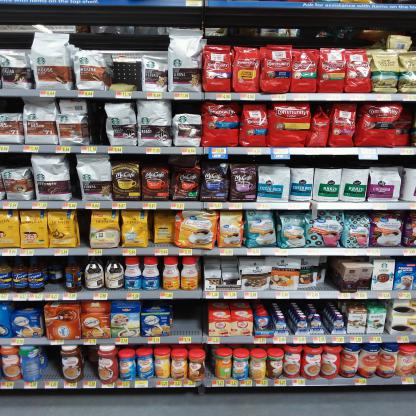Void: (173, 302, 200, 336), (88, 101, 107, 143), (112, 56, 138, 82), (43, 347, 60, 378), (86, 347, 98, 379), (5, 152, 25, 168), (2, 100, 22, 111), (46, 284, 59, 292)
